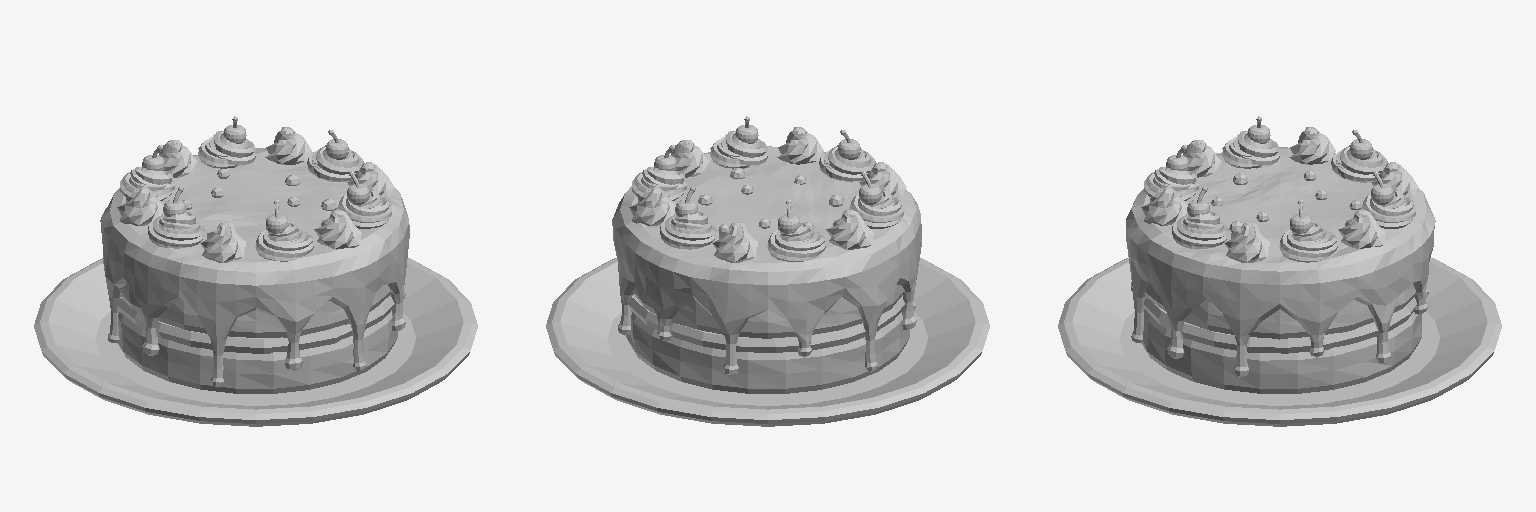
The model's file is Cake.obj.
The picture shows the model from 3 angles: view 1: azimuth 30°, elevation 25°; view 2: azimuth 150°, elevation 25°; view 3: azimuth 270°, elevation 25°; orthographic projection.
Visible parts, largest first — view 1: Cake; view 2: Cake; view 3: Cake.
Part boxes in pixels (left/top/right/bottom): Cake: left=34, top=116, right=477, bottom=426; Cake: left=546, top=116, right=989, bottom=426; Cake: left=1058, top=116, right=1501, bottom=426.
Size of the model in its own units: 84.83 by 41.2 by 84.83.